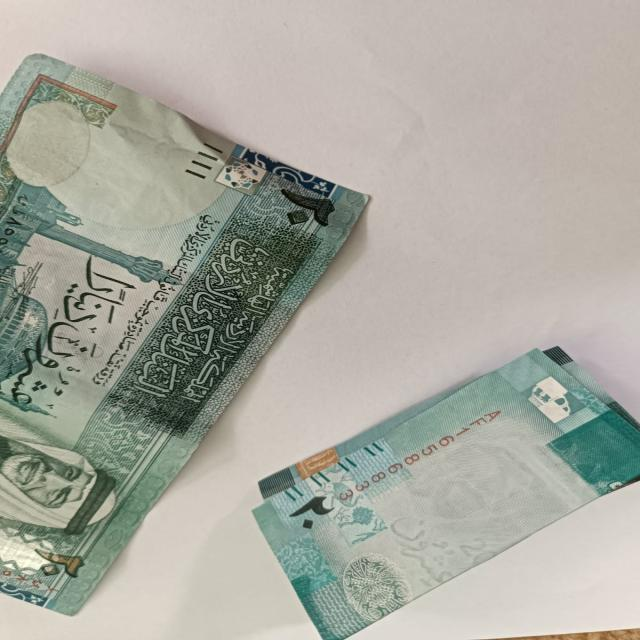20-dinar: (0, 48, 379, 619), (249, 349, 640, 638)
